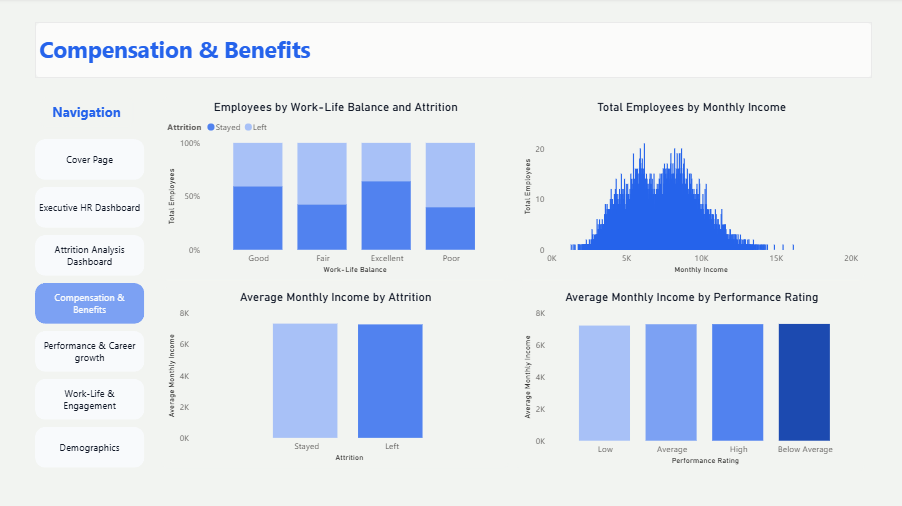

Layout of this report page (visuals, bound fields, positions):
{"tool":"powerbi","page":{"name":"Compensation & Benefits","canvas":[1280,720],"ordinal":3},"visuals":[{"type":"textbox","box":[50.9,33.4,1186.6,79.5],"z":0},{"type":"pageNavigator","box":[51.7,200,155,466.7],"z":1000},{"type":"columnChart","fields":{"Y":["HR-Employee.Total Employees"],"Category":["HR-Employee.Monthly Income"]},"box":[734,140.6,493.4,259.5],"z":2000},{"type":"clusteredColumnChart","fields":{"Y":["HR-Employee.Average Monthly Income"],"Category":["HR-Employee.Performance Rating"]},"box":[734,409.6,493.4,260.9],"z":3000},{"type":"hundredPercentStackedColumnChart","title":"Employees by Work-Life Balance and Attrition","fields":{"Category":["HR-Employee.Work-Life Balance"],"Y":["HR-Employee.Total Employees"],"Series":["HR-Employee.Attrition"]},"box":[229.8,140.6,493.4,259.5],"z":4000},{"type":"columnChart","fields":{"Category":["HR-Employee.Attrition"],"Y":["HR-Employee.Average Monthly Income"]},"box":[229.8,409.6,493.4,256.8],"z":5000},{"type":"textbox","box":[58.1,140.3,131.8,42.5],"z":6000}]}

Visuals, with their boxes in screenshot pixels (x1, y1, x2, y2), scaled from the page's 1280x720 canvas onto the 902x506 screenshot:
textbox: (left=36, top=23, right=872, bottom=79)
pageNavigator: (left=36, top=141, right=146, bottom=469)
columnChart - HR-Employee.Total Employees x HR-Employee.Monthly Income: (left=517, top=99, right=865, bottom=281)
clusteredColumnChart - HR-Employee.Average Monthly Income x HR-Employee.Performance Rating: (left=517, top=288, right=865, bottom=471)
"Employees by Work-Life Balance and Attrition" hundredPercentStackedColumnChart: (left=162, top=99, right=510, bottom=281)
columnChart - HR-Employee.Attrition x HR-Employee.Average Monthly Income: (left=162, top=288, right=510, bottom=468)
textbox: (left=41, top=99, right=134, bottom=128)
